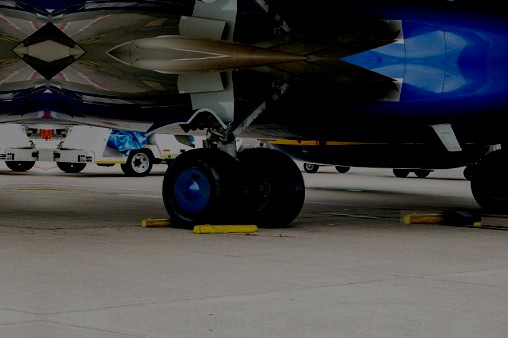chock: (400, 210, 481, 226), (192, 222, 261, 235), (139, 217, 200, 229)
wheel: (160, 146, 249, 229), (231, 147, 306, 227), (469, 149, 508, 214), (120, 148, 153, 177), (5, 159, 35, 171), (56, 161, 85, 172), (463, 164, 476, 180), (119, 163, 134, 175), (303, 163, 318, 172), (393, 169, 409, 177), (414, 169, 430, 177), (335, 165, 349, 172), (96, 162, 114, 166), (152, 157, 162, 163)
